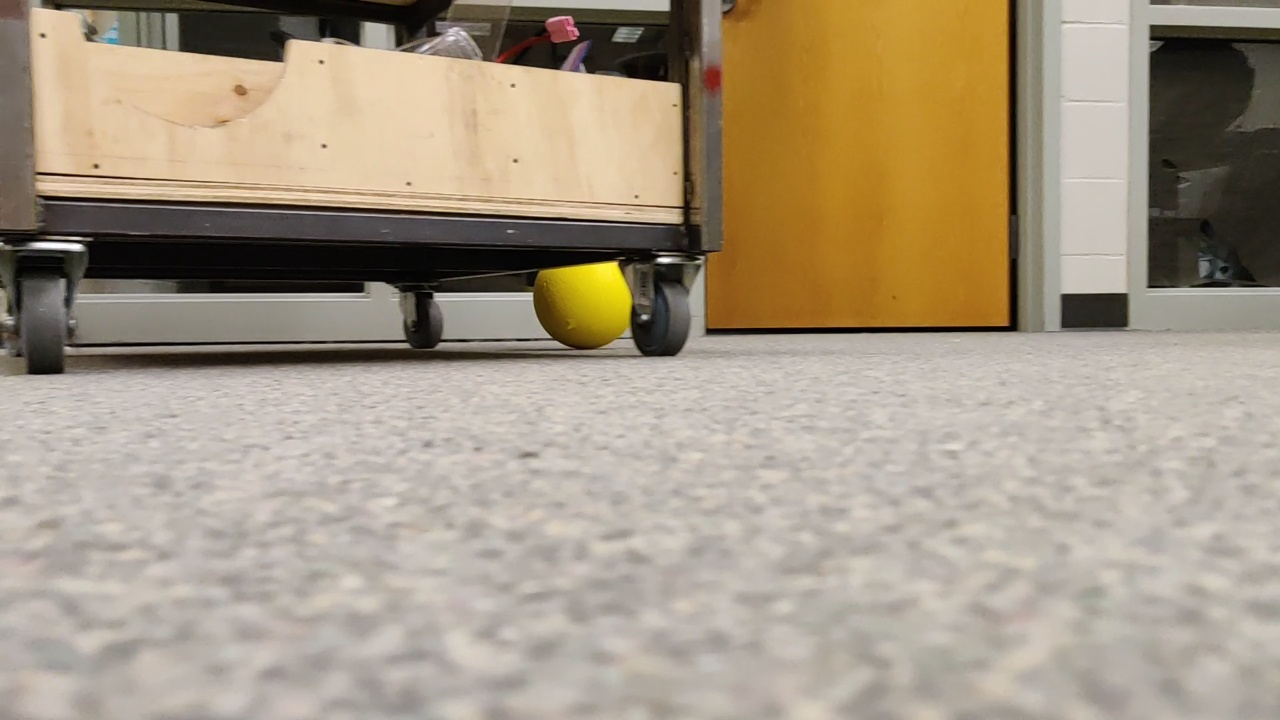Ball: (535, 238, 633, 355)
